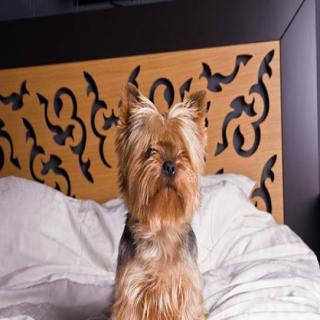dog: (115, 76, 210, 223)
nose: (158, 160, 180, 179)
